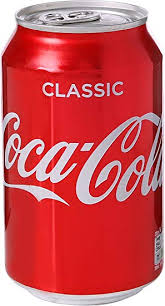coke: (1, 107, 164, 204)
